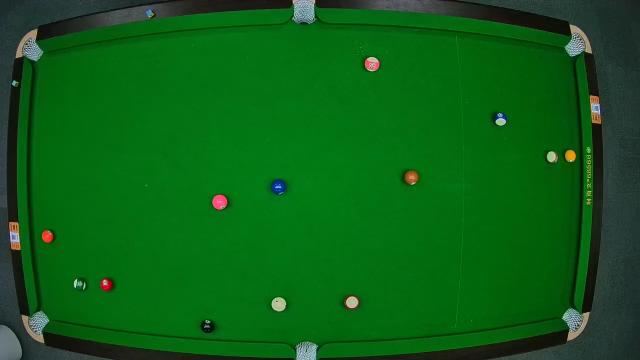bag1: (20, 40, 42, 61)
bag2: (293, 0, 317, 26)
bag3: (566, 34, 586, 58)
bag4: (28, 312, 48, 332)
bag5: (295, 340, 319, 360)
bag6: (561, 309, 583, 331)
ball0: (272, 296, 288, 312)
ball1: (564, 150, 576, 162)
ball10: (494, 110, 506, 126)
ball11: (344, 294, 360, 310)
ball12: (364, 56, 380, 72)
ball14: (73, 278, 87, 290)
ball15: (546, 150, 558, 164)
ball2: (270, 178, 288, 196)
ball3: (100, 278, 112, 292)
ball4: (212, 194, 228, 210)
ball5: (42, 229, 54, 243)
ball7: (404, 170, 418, 186)
ball8: (200, 319, 216, 333)
